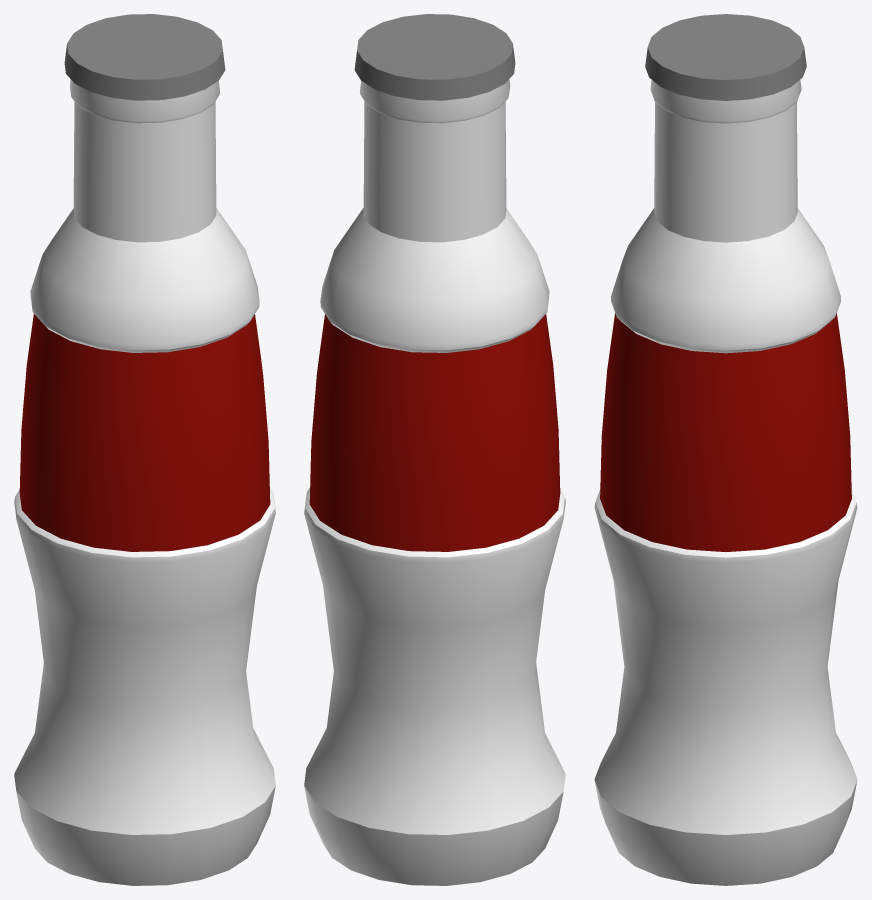
File: Cola.fbx
3 renders of one model, left to right at view 1: azimuth 30°, elevation 25°; view 2: azimuth 150°, elevation 25°; view 3: azimuth 270°, elevation 25°, orthographic.
Parts seen in each view (by area): view 1: Cylinder, Cylinder.001; view 2: Cylinder, Cylinder.001; view 3: Cylinder, Cylinder.001.
Part boxes in pixels (box(x1,y1,x2,y2)): Cylinder: box(14, 79, 275, 885); Cylinder.001: box(64, 14, 225, 100); Cylinder: box(304, 79, 565, 885); Cylinder.001: box(354, 14, 515, 100); Cylinder: box(594, 80, 857, 885); Cylinder.001: box(645, 14, 806, 100).
Bounding box in the file's own units: 429 × 1425 × 429.
